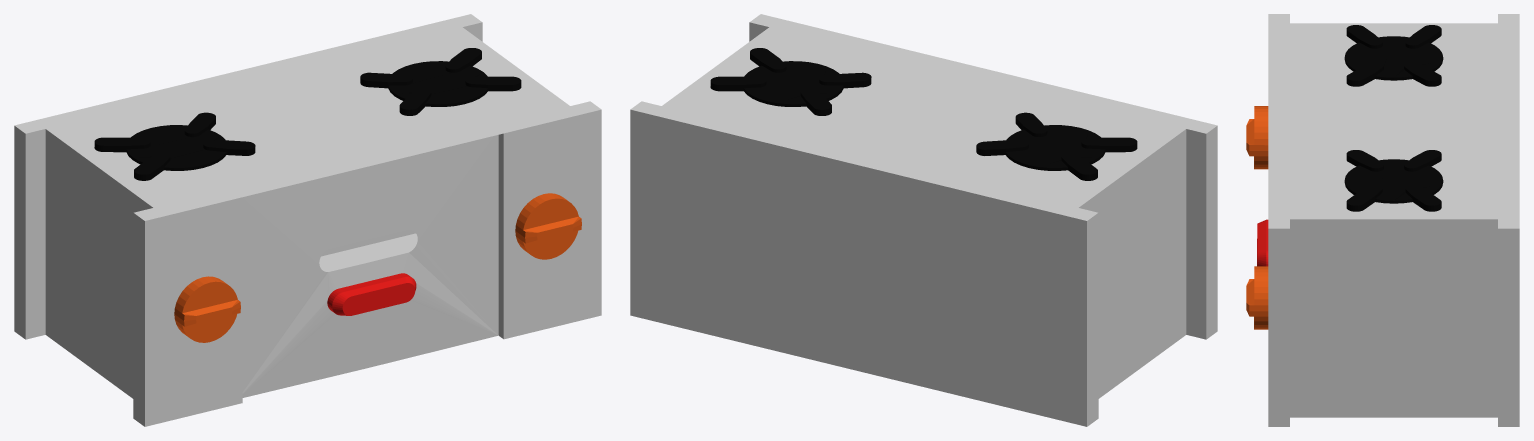
The model's file is conro.fbx.
The picture shows the model from 3 angles, left to right: view 1: azimuth 30°, elevation 25°; view 2: azimuth 150°, elevation 25°; view 3: azimuth 270°, elevation 25°; orthographic projection. The views are drawn at different scales.
Parts seen in each view (by area): view 1: 立方体; view 2: 立方体; view 3: 立方体.
Boxes of the visible parts, box(x1,y1,x2,y2) form: 立方体: box(14, 14, 601, 426); 立方体: box(630, 14, 1217, 426); 立方体: box(1246, 14, 1519, 426).
Bounding box in the file's own units: 162 × 72.01 × 87.35.
